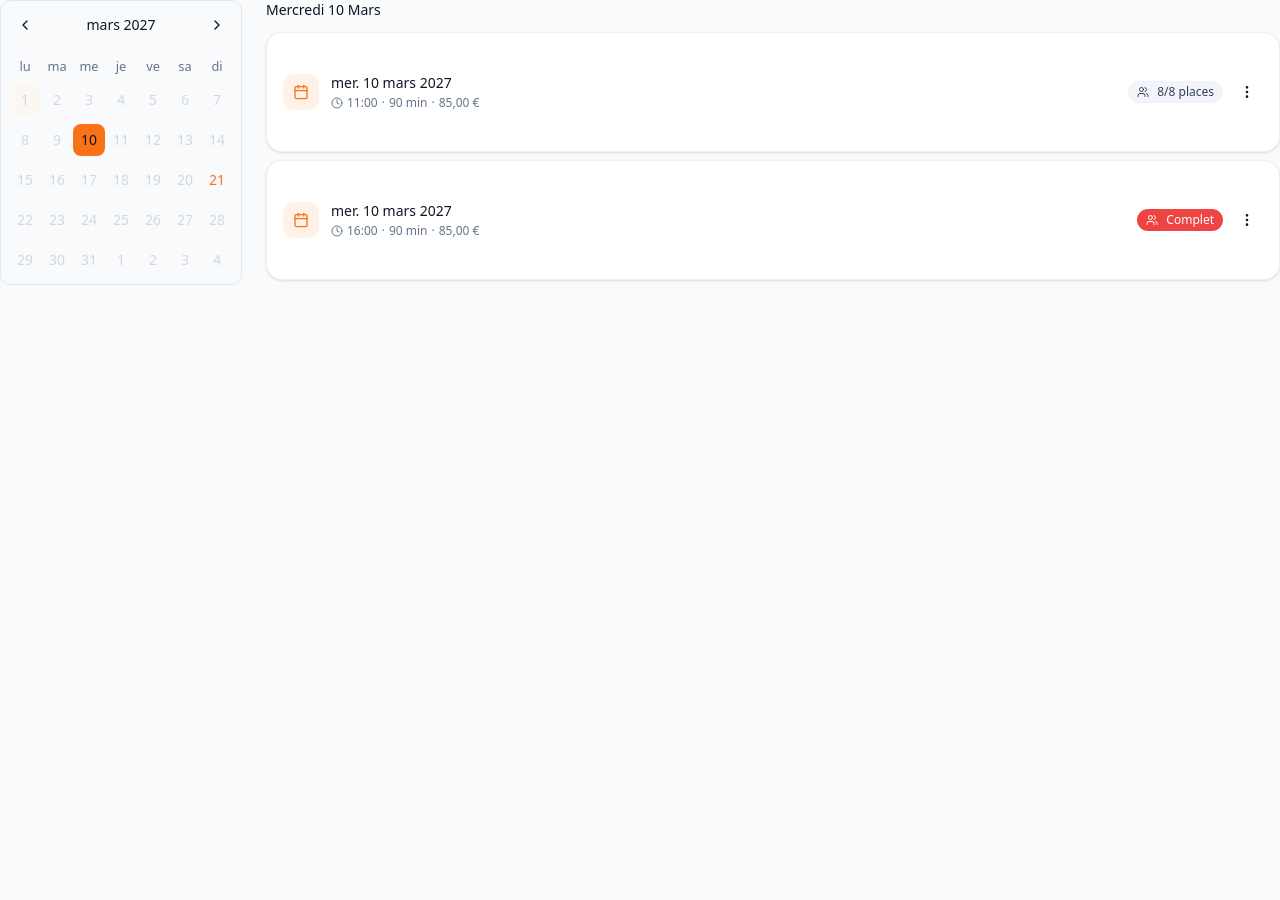
Test case: SlotCalendar › ouvre la modification depuis le menu
The image size is (1280, 900).
What coordinates should you click on to do the following:
click the button named "Actions" next to "8/8 places"
I would click on:
 (1247, 92)
Its box is top-left (1231, 76), bottom-right (1263, 108).
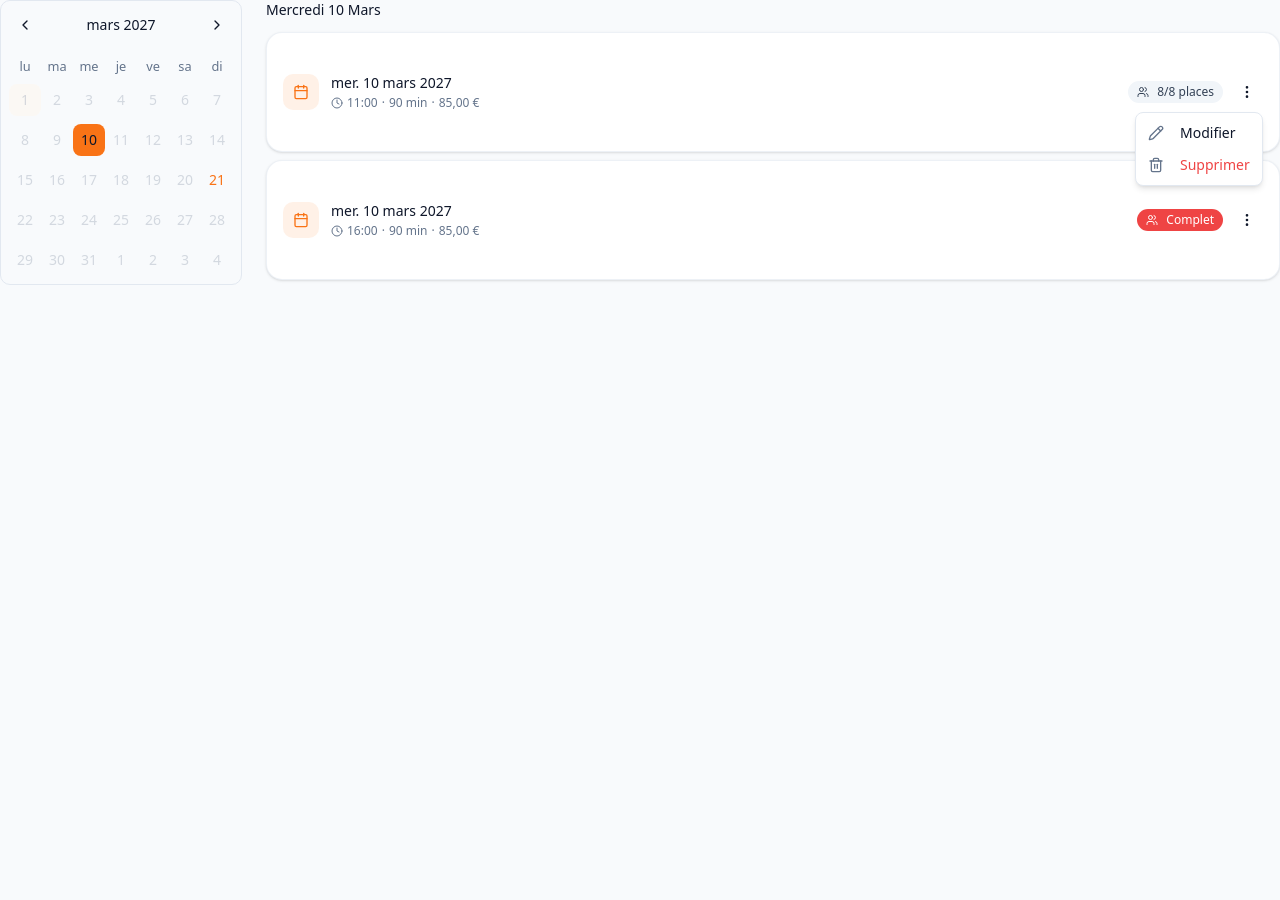
What coordinates should you click on to do the following:
click the menu item "Modifier"
I would click on:
 (1192, 132)
Its box is top-left (1148, 123), bottom-right (1236, 142).
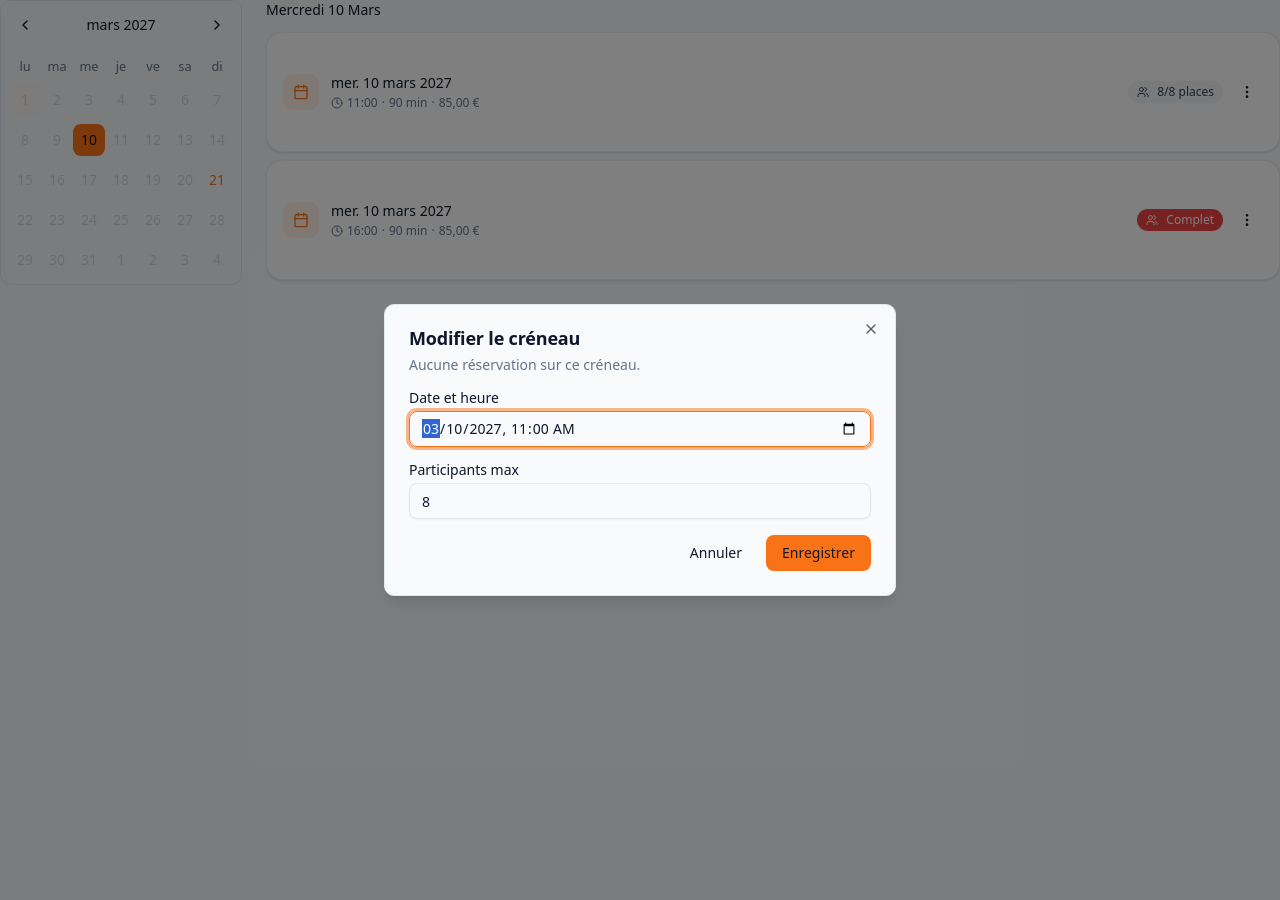
Now the heading "Modifier le créneau" is shown, box top-left (409, 326), bottom-right (580, 350)
